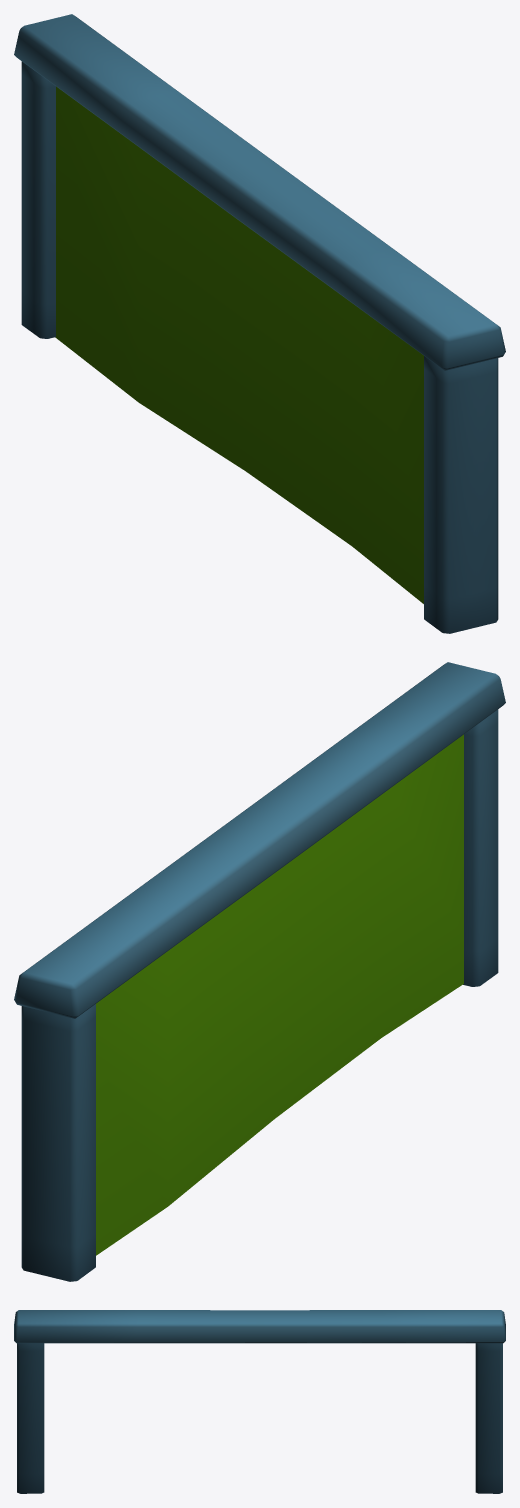
File: PlasteredWall01Night.glb
The picture shows the model from 3 angles, top to bottom: view 1: azimuth 30°, elevation 25°; view 2: azimuth 150°, elevation 25°; view 3: azimuth 270°, elevation 25°; orthographic projection. The views are drawn at different scales.
Parts seen in each view (by area): view 1: PlasteredWall01Night; view 2: PlasteredWall01Night; view 3: PlasteredWall01Night.
Part boxes in pixels (x1,y1,x2,y2): PlasteredWall01Night: (14,14,505,633); PlasteredWall01Night: (14,662,505,1281); PlasteredWall01Night: (14,1310,505,1493).
Size of the model in its own units: 0.7885 by 3.52 by 9.12.
Materials: 2 (1 with a texture image).
